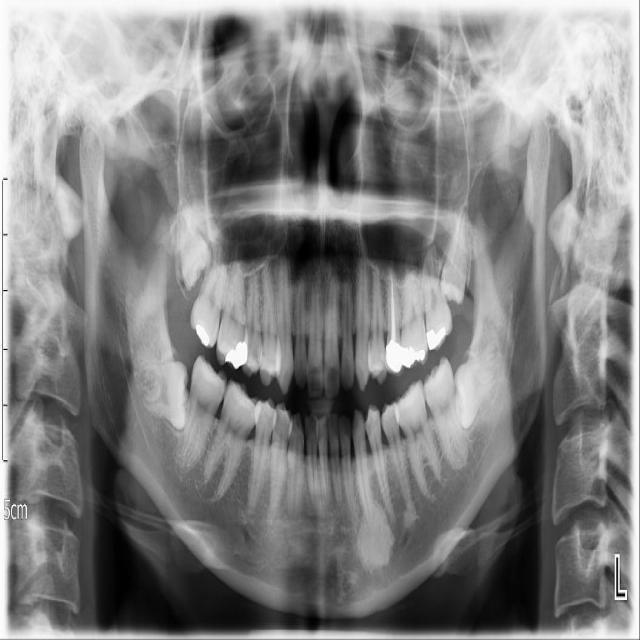Crown: (385, 331, 404, 378)
Filling: (224, 337, 250, 369), (401, 345, 426, 367), (427, 326, 449, 350), (193, 322, 214, 346)
Periapical lesion: (355, 506, 390, 569)
Root Canal Treatment: (391, 277, 396, 340)
impacted tooth: (453, 336, 498, 427), (133, 362, 191, 431), (174, 202, 213, 286), (438, 206, 469, 302)
